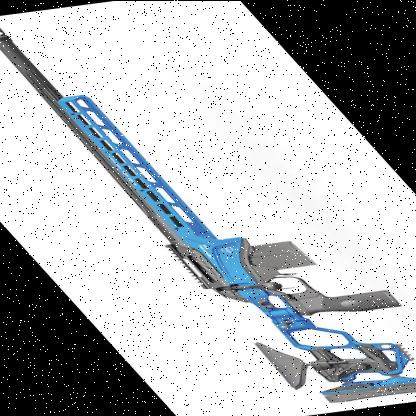rifle: (0, 6, 416, 412)
